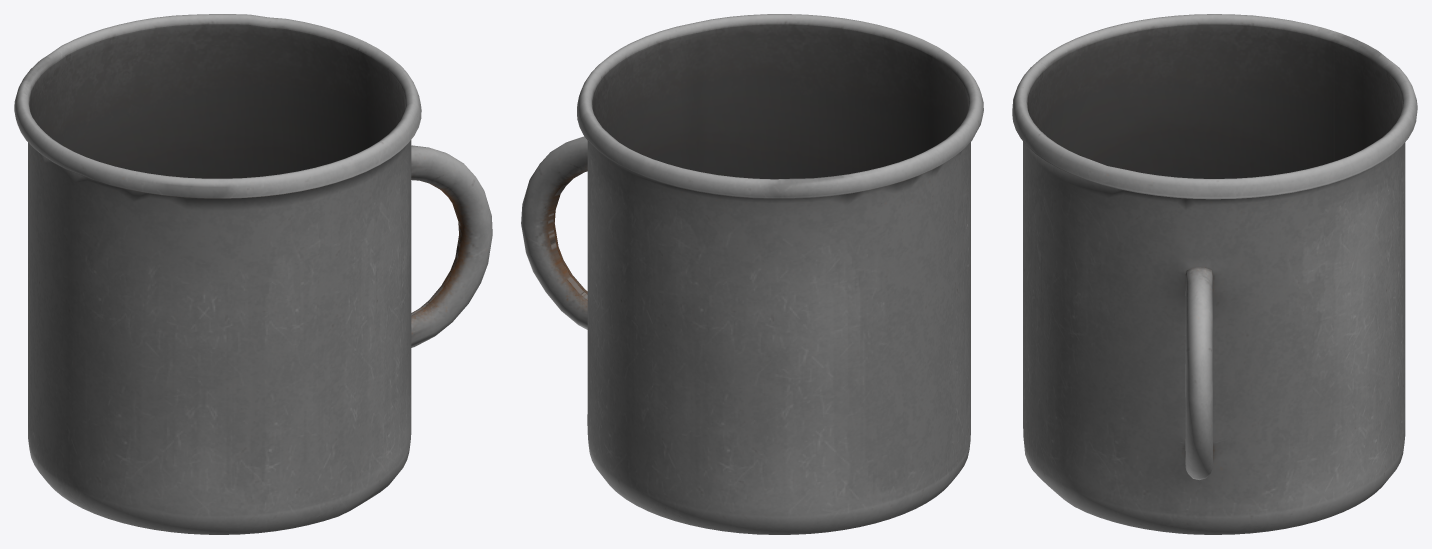
The model's file is cup.glb.
3 views of the same model, side by side, from view 1: azimuth 30°, elevation 25°; view 2: azimuth 150°, elevation 25°; view 3: azimuth 270°, elevation 25° (orthographic).
Parts seen in each view (by area): view 1: cup:pCylinder5_aiStandardSurface4_0; view 2: cup:pCylinder5_aiStandardSurface4_0; view 3: cup:pCylinder5_aiStandardSurface4_0.
Boxes of the visible parts, <box> form: cup:pCylinder5_aiStandardSurface4_0: <box>14,14,492,534</box>; cup:pCylinder5_aiStandardSurface4_0: <box>521,14,983,534</box>; cup:pCylinder5_aiStandardSurface4_0: <box>1012,14,1417,534</box>.
Bounding box in the file's own units: 0.1085 × 0.0849 × 0.0865.
Materials: 1 (1 with a texture image).
